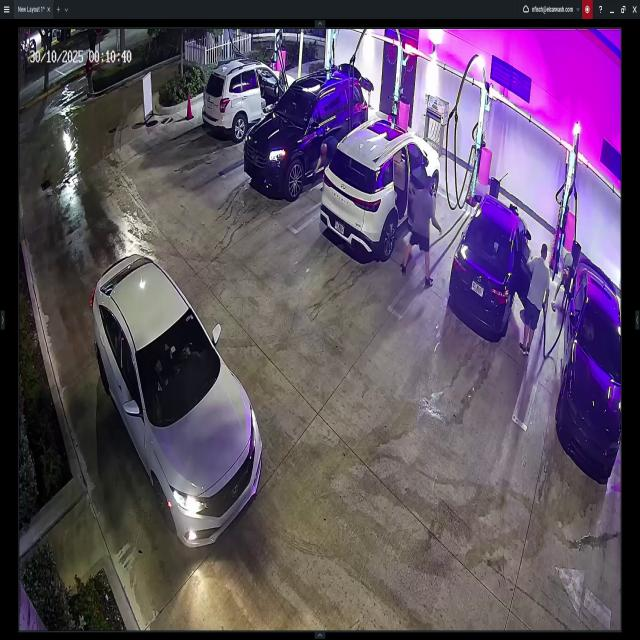Car: (89, 254, 264, 549), (324, 118, 442, 260), (244, 71, 368, 198), (558, 254, 620, 479), (449, 195, 528, 340), (202, 58, 296, 142)
